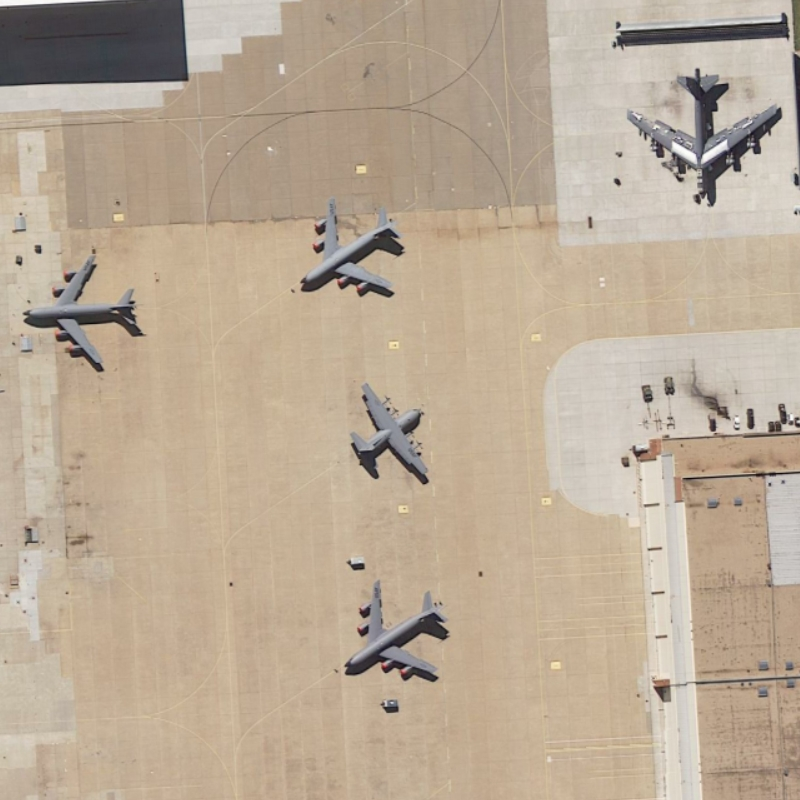A14: (11, 244, 148, 378), (337, 573, 458, 691), (294, 193, 415, 309)
A2: (344, 374, 443, 489)
A8: (615, 65, 785, 213)
